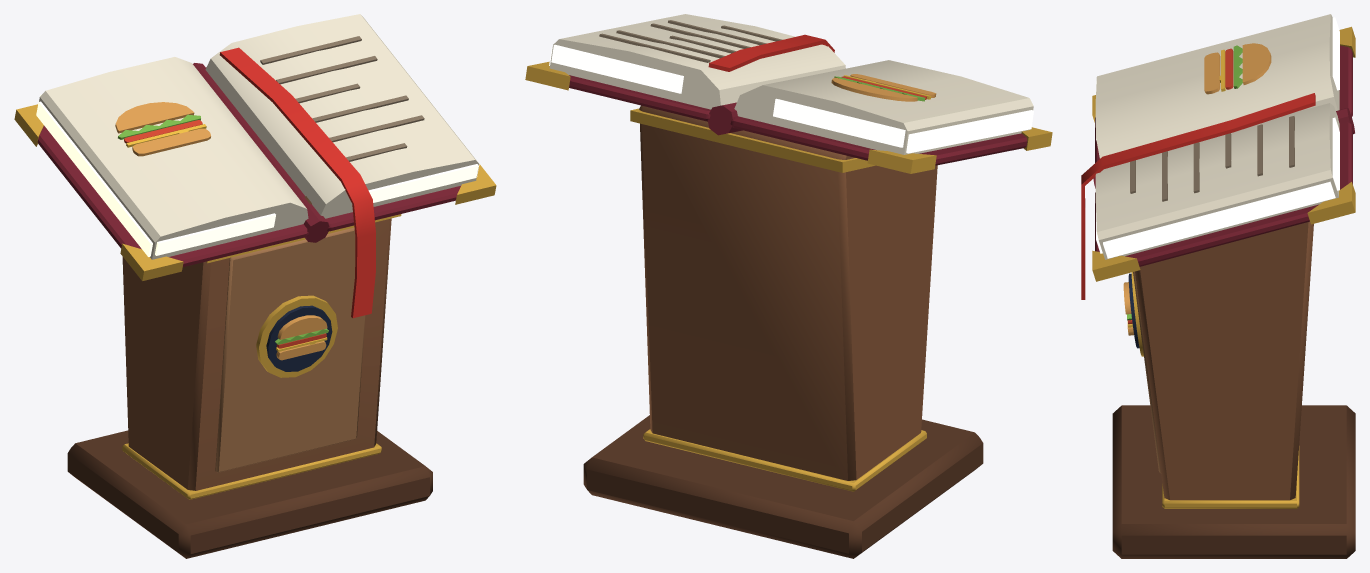
Rendered from Lobby_BookPodium.fbx.
3 renders of one model, left to right at view 1: azimuth 30°, elevation 25°; view 2: azimuth 150°, elevation 25°; view 3: azimuth 270°, elevation 25°, orthographic. The views are drawn at different scales.
Visible parts, largest first — view 1: Pages, Lectern, Panel, Plinth, Leather, Gilding, Ribbon, PageGlow, Icon1, Ink, MedallionNavy, Icon2 (+1 smaller); view 2: Lectern, Plinth, Pages, Gilding, PageGlow, Leather, Ink, Ribbon, Icon1; view 3: Lectern, Pages, Plinth, PageGlow, Leather, Gilding, Ribbon, Icon1, Ink, Panel, Icon2, Icon3.
Part boxes in pixels (x1,y1,x2,y2): Pages: (39, 14, 478, 259); Lectern: (122, 218, 391, 490); Panel: (215, 227, 365, 472); Plinth: (67, 430, 432, 558); Leather: (37, 63, 460, 266); Gilding: (14, 104, 496, 499); Ribbon: (219, 47, 375, 318); PageGlow: (36, 22, 479, 256); Icon1: (115, 102, 327, 360); Ink: (260, 36, 424, 161); MedallionNavy: (266, 305, 332, 371); Icon2: (118, 114, 328, 344); Lectern: (639, 105, 937, 480); Plinth: (583, 415, 983, 558); Pages: (549, 14, 1033, 154); Gilding: (525, 61, 1052, 491); PageGlow: (549, 44, 1033, 153); Leather: (569, 75, 1027, 165); Ink: (599, 20, 782, 62); Ribbon: (708, 34, 834, 71); Icon1: (831, 74, 936, 101); Lectern: (1135, 221, 1313, 500); Pages: (1095, 14, 1339, 259); Plinth: (1112, 405, 1355, 558); PageGlow: (1096, 17, 1339, 258); Leather: (1093, 45, 1354, 266); Gilding: (1092, 26, 1355, 508); Ribbon: (1081, 93, 1315, 299); Icon1: (1123, 43, 1271, 335); Ink: (1130, 116, 1294, 201); Panel: (1133, 271, 1160, 472); Icon2: (1126, 45, 1242, 320); Icon3: (1128, 48, 1233, 324).
Size of the model in its own units: 374 by 412 by 249.
